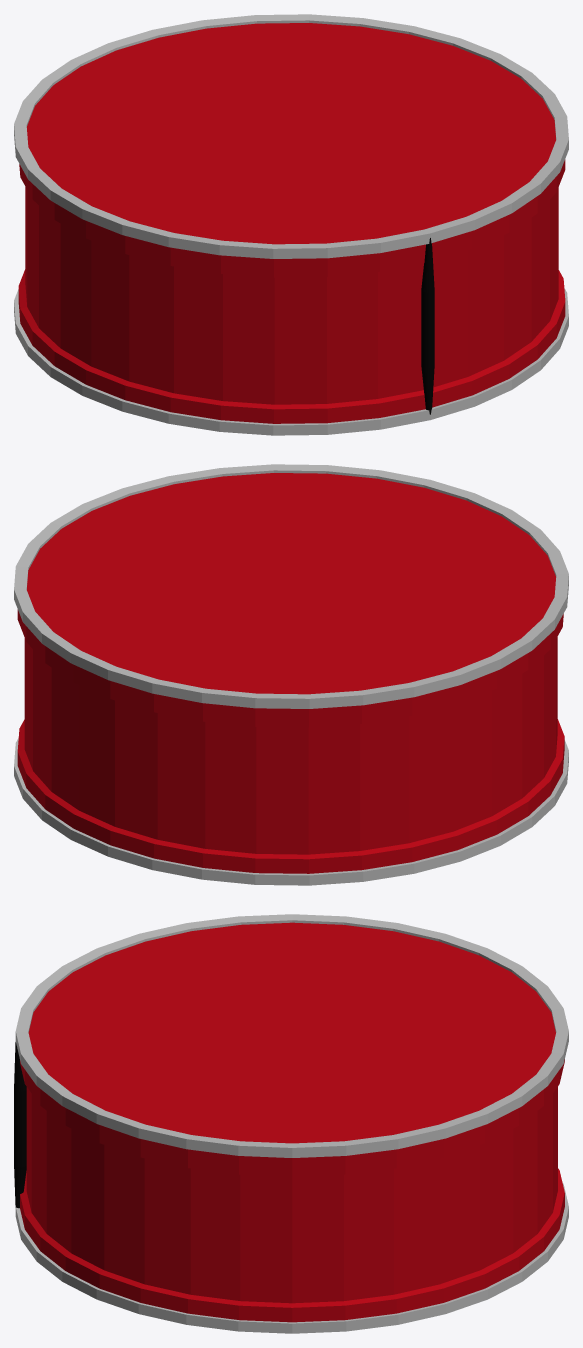
The model's file is bassdrum.glb.
3 renders of one model, top to bottom at view 1: azimuth 30°, elevation 25°; view 2: azimuth 150°, elevation 25°; view 3: azimuth 270°, elevation 25°, orthographic.
Visible parts, largest first — view 1: Cylinder, Cylinder.002, Cylinder.003, Cylinder.001; view 2: Cylinder, Cylinder.002, Cylinder.003; view 3: Cylinder, Cylinder.002, Cylinder.003, Cylinder.001.
Boxes of the visible parts, box(x1,y1,x2,y2) form: Cylinder: box(18, 23, 565, 423); Cylinder.002: box(14, 14, 568, 258); Cylinder.003: box(14, 288, 568, 435); Cylinder.001: box(421, 238, 434, 414); Cylinder: box(17, 473, 564, 873); Cylinder.002: box(14, 464, 568, 708); Cylinder.003: box(14, 738, 568, 885); Cylinder: box(20, 922, 564, 1322); Cylinder.002: box(15, 914, 568, 1157); Cylinder.003: box(15, 1182, 568, 1333); Cylinder.001: box(14, 1042, 26, 1208).
Bounding box in the file's own units: 2.03 × 0.7551 × 2.04.
